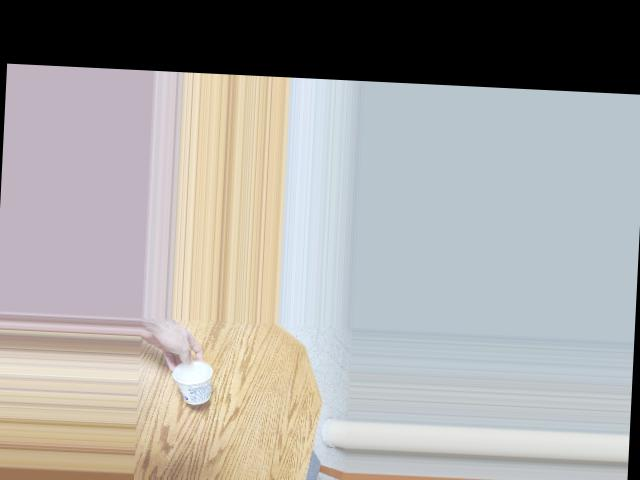cotage: (172, 362, 218, 406)
